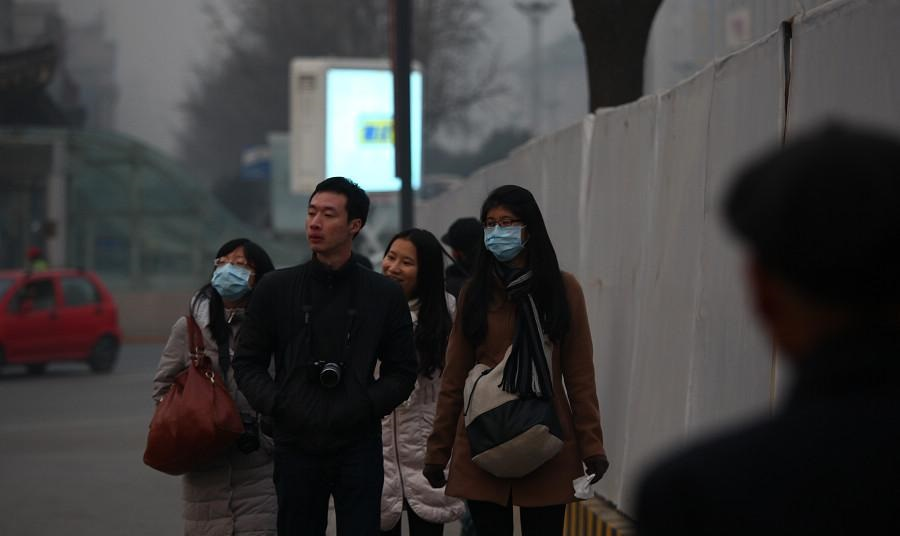face: (300, 196, 352, 249), (380, 241, 426, 289)
face_mask: (484, 208, 525, 259), (211, 258, 253, 300)
